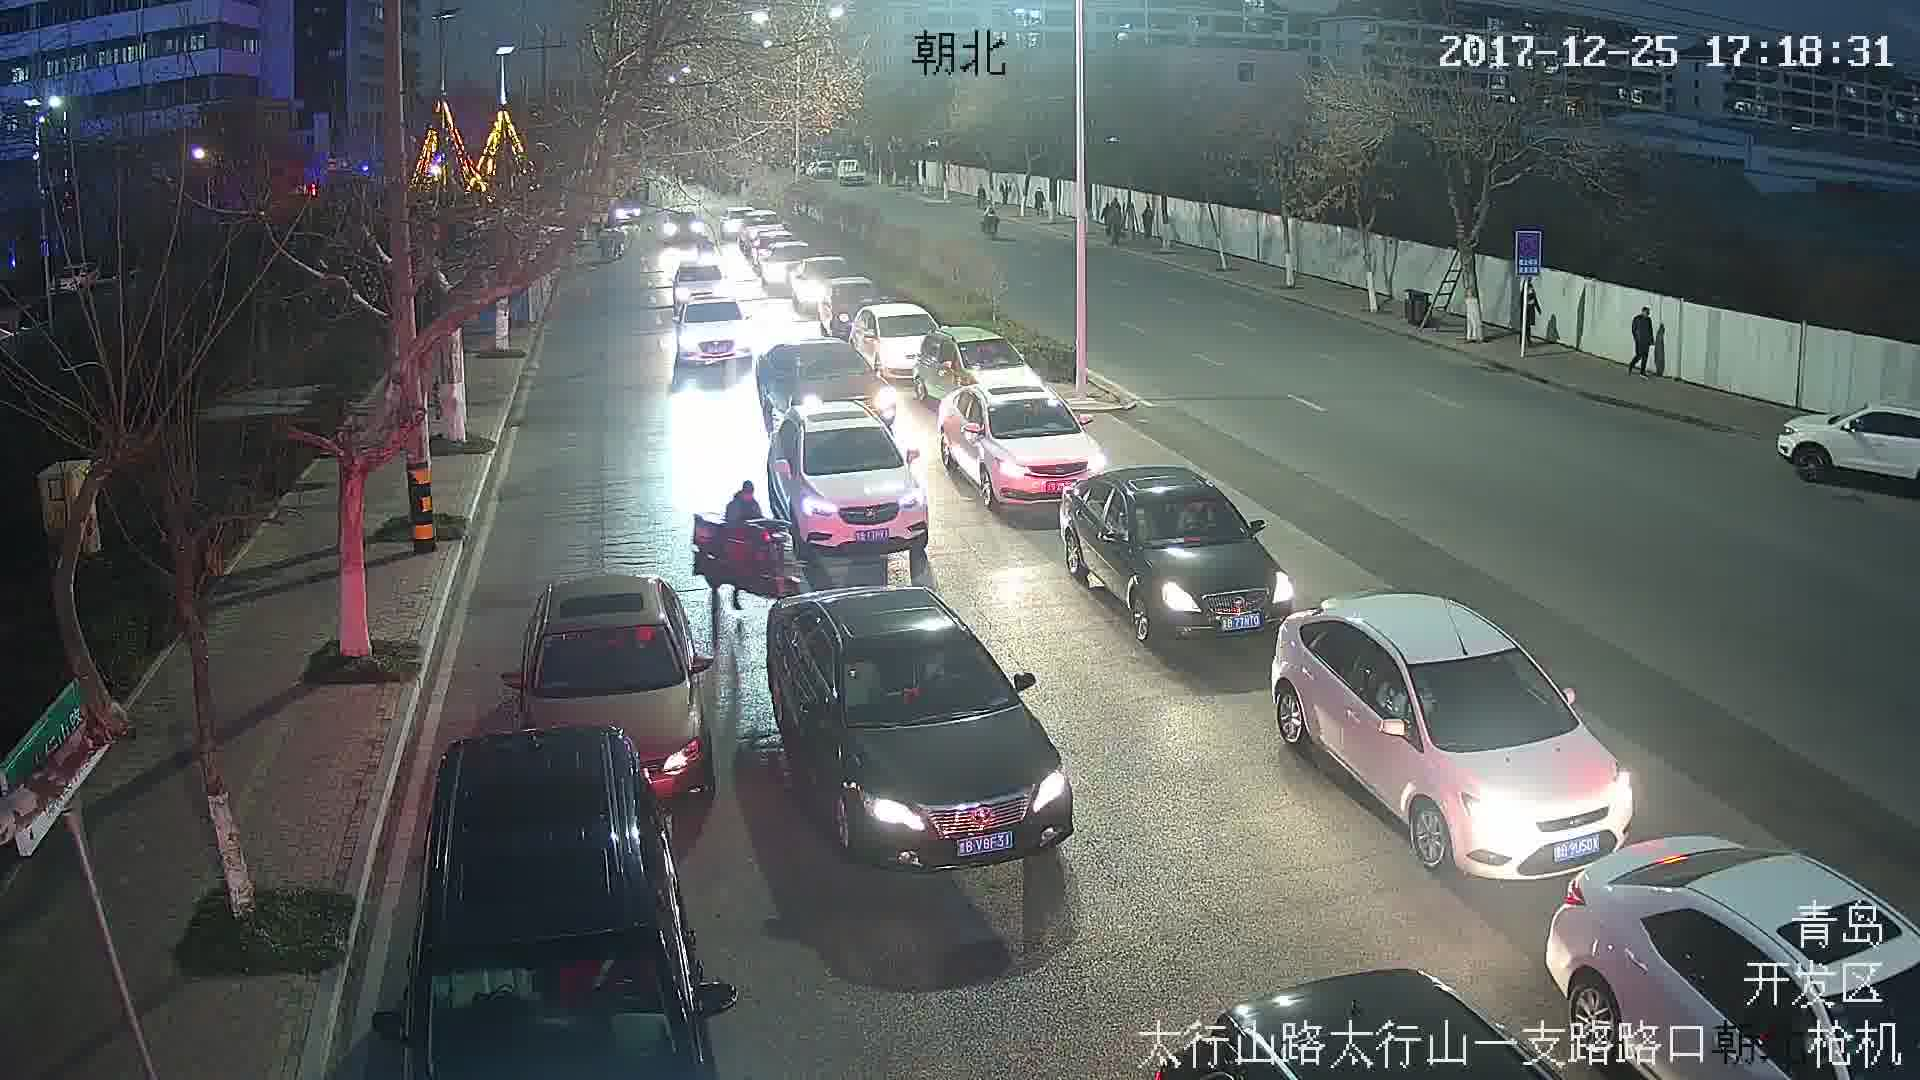car: (1284, 585, 1618, 877), (774, 589, 1073, 874), (502, 575, 712, 794), (1059, 473, 1296, 646), (770, 403, 930, 553), (932, 385, 1103, 507), (666, 295, 756, 374)
person: (725, 473, 763, 528), (1631, 305, 1655, 380)
